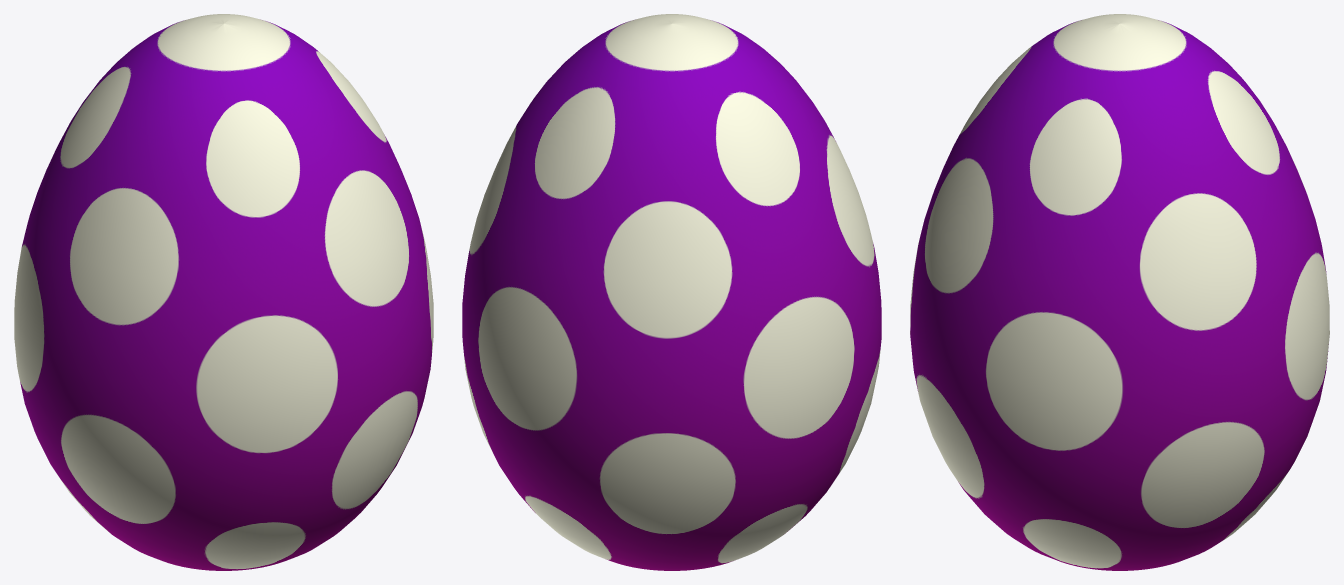
Rendered from egg-3.glb.
The picture shows the model from 3 angles, left to right: view 1: azimuth 30°, elevation 25°; view 2: azimuth 150°, elevation 25°; view 3: azimuth 270°, elevation 25°; orthographic projection.
Visible parts, largest first — view 1: Mesh_1; view 2: Mesh_1; view 3: Mesh_1.
Part boxes in pixels (box(x1,y1,x2,y2)): Mesh_1: box(14, 14, 433, 570); Mesh_1: box(462, 14, 881, 570); Mesh_1: box(910, 14, 1329, 570).
Size of the model in its own units: 1.68 by 2.33 by 1.68.
Materials: 1 (1 with a texture image).
